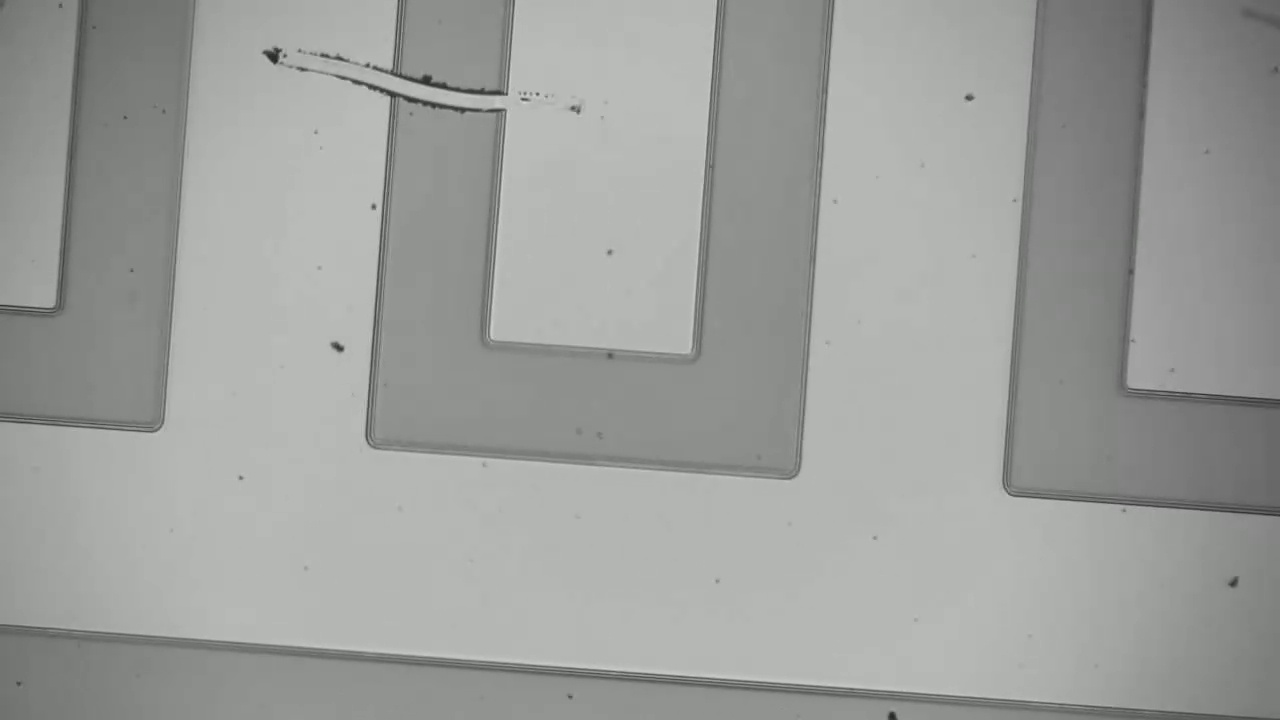Short_circuit: (355, 55, 532, 139)
